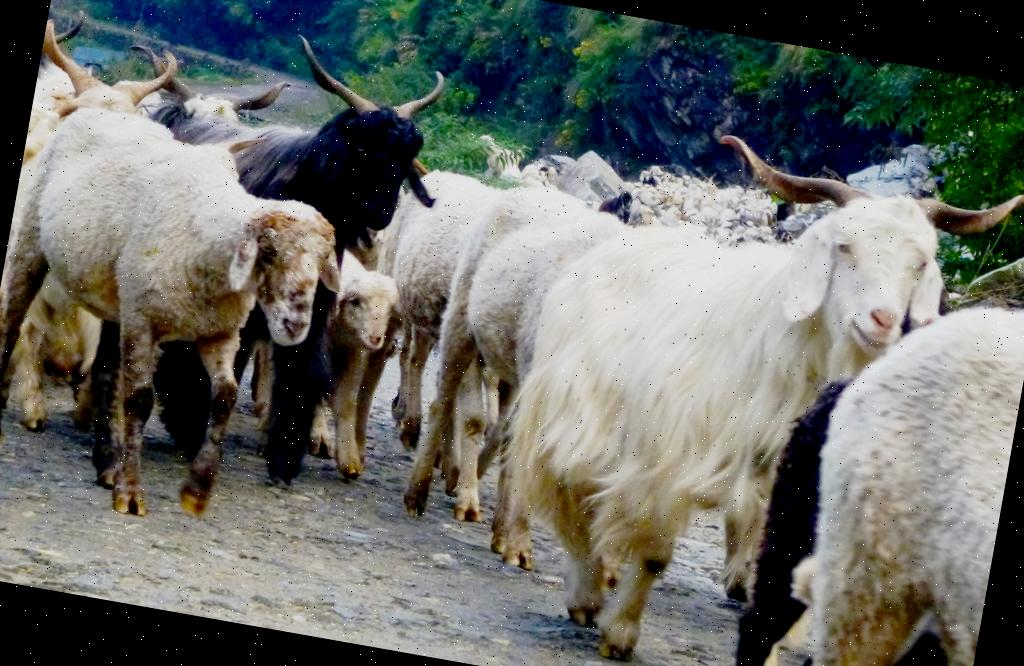Sheep: (461, 103, 1024, 666), (0, 93, 350, 552), (139, 27, 470, 510), (773, 248, 1024, 666), (352, 158, 596, 532), (98, 35, 304, 462), (0, 20, 193, 463), (270, 224, 428, 500)
